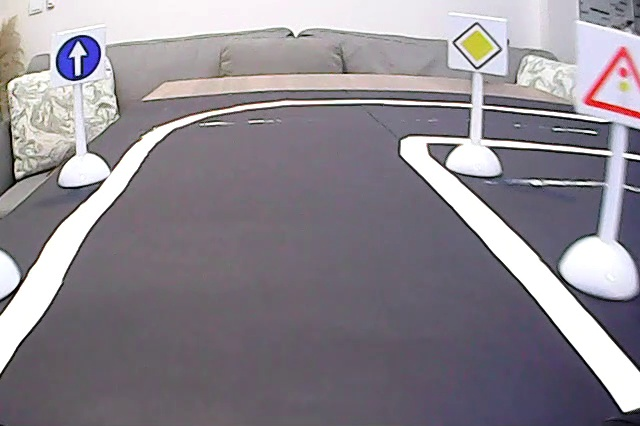red light: (580, 33, 640, 123)
